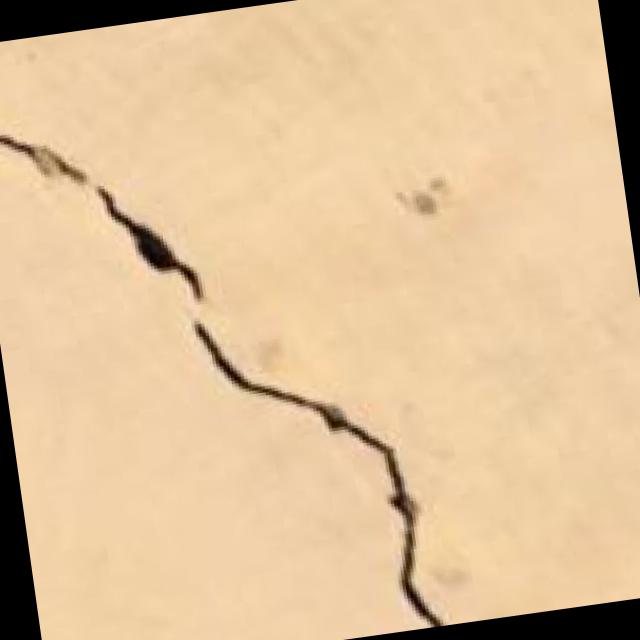crack: (0, 20, 510, 640)
